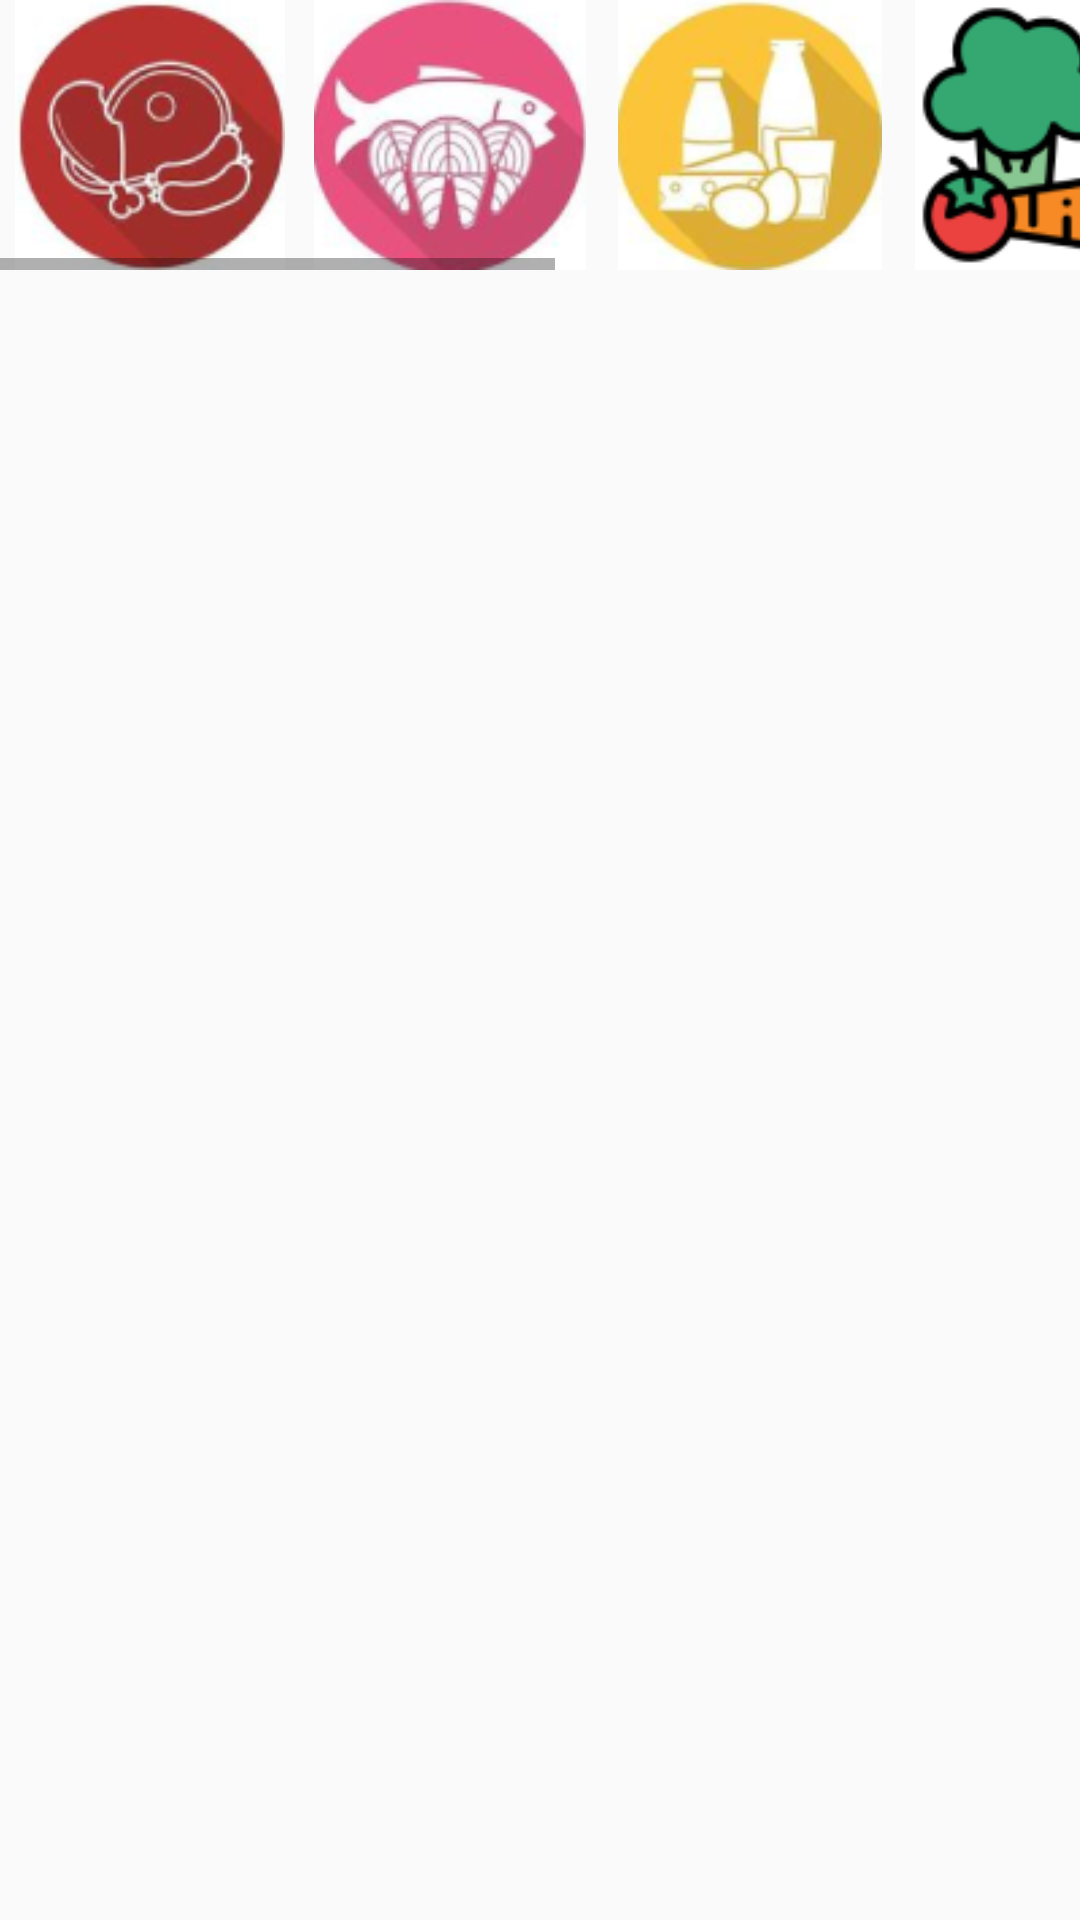

Named icons in this screenshot (1080×1920) and their bounding boxes, (x1, y1, x2, y2):
dairy: (618, 0, 882, 270)
fish: (300, 0, 586, 270)
meat: (0, 4, 300, 270)
